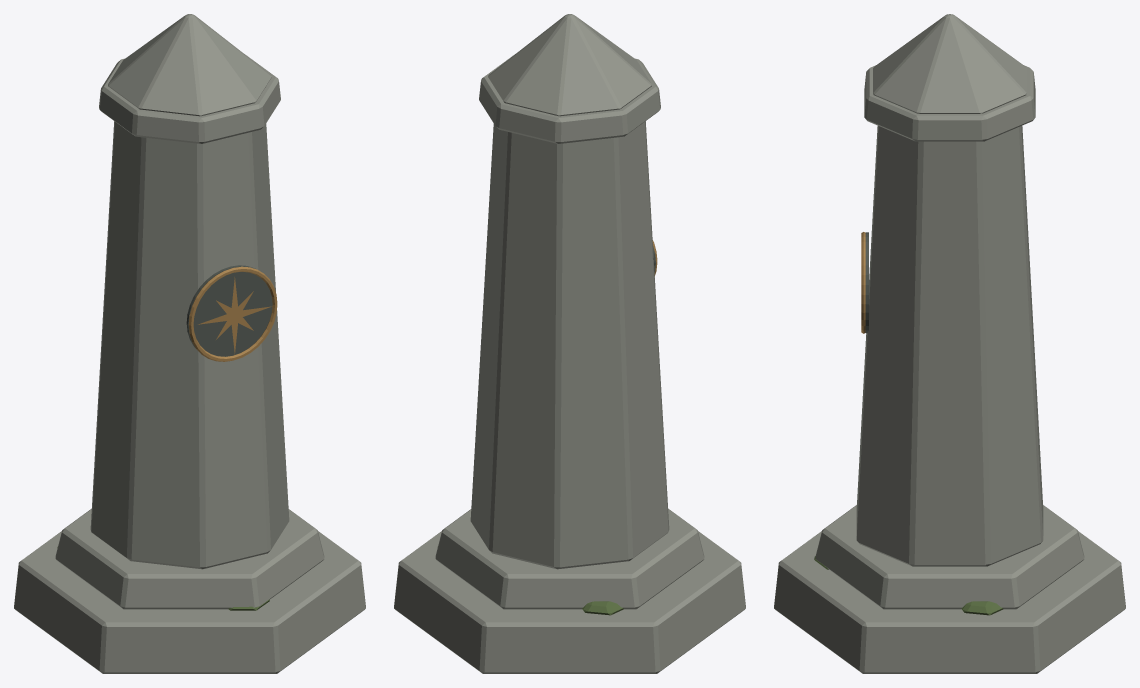
Rendered from GreenlandsWaystone.glb.
The picture shows the model from 3 angles, left to right: view 1: azimuth 30°, elevation 25°; view 2: azimuth 150°, elevation 25°; view 3: azimuth 270°, elevation 25°; orthographic projection.
Parts seen in each view (by area): view 1: SM_GreenlandsWaystone; view 2: SM_GreenlandsWaystone; view 3: SM_GreenlandsWaystone.
Part boxes in pixels (left/top/right/bottom): SM_GreenlandsWaystone: left=14, top=14, right=365, bottom=673; SM_GreenlandsWaystone: left=394, top=14, right=745, bottom=673; SM_GreenlandsWaystone: left=774, top=14, right=1125, bottom=673.
Size of the model in its own units: 1.12 by 2.4 by 1.29.
